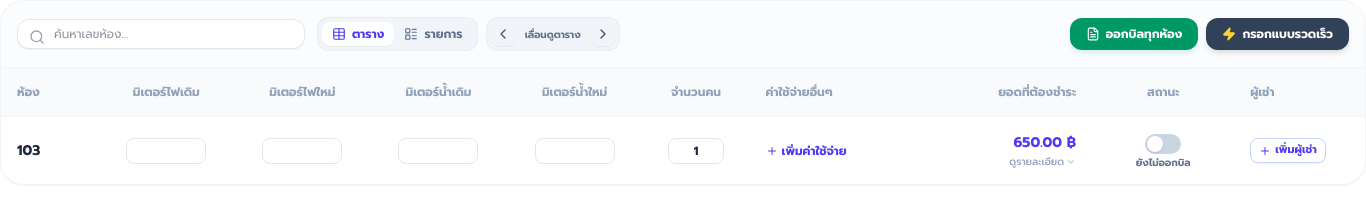
Test: LOCAL-07 Backend Canonical Owner Payable Preview Suite › 19. Detail rows render clean inline rows without card/border/background/shadow/pill
Check: the text "103" is shown, box [1, 116, 98, 184]
Click the button "ดูรายละเอียด" at (1043, 162), box [1009, 155, 1076, 168]
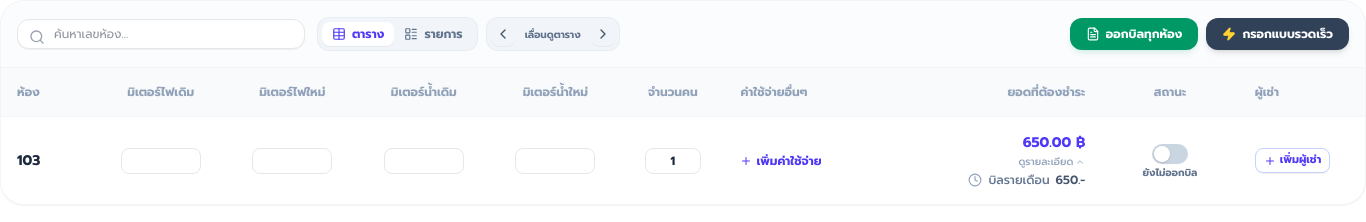
Check: the element with test id "charge-component-row-r-103-0" is shown, box [968, 172, 1085, 188]
Check: the element with test id "charge-component-row-r-103-0" shows "บิลรายเดือน", box [988, 171, 1050, 189]
Check: the element with test id "charge-component-row-r-103-0" shows "650.-", box [1056, 171, 1085, 189]
